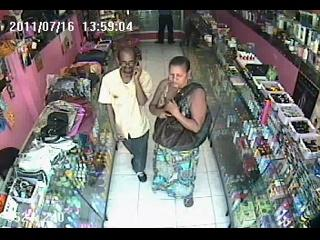Normal: (149, 56, 212, 208), (98, 46, 154, 184), (154, 10, 176, 44), (75, 50, 109, 65)
